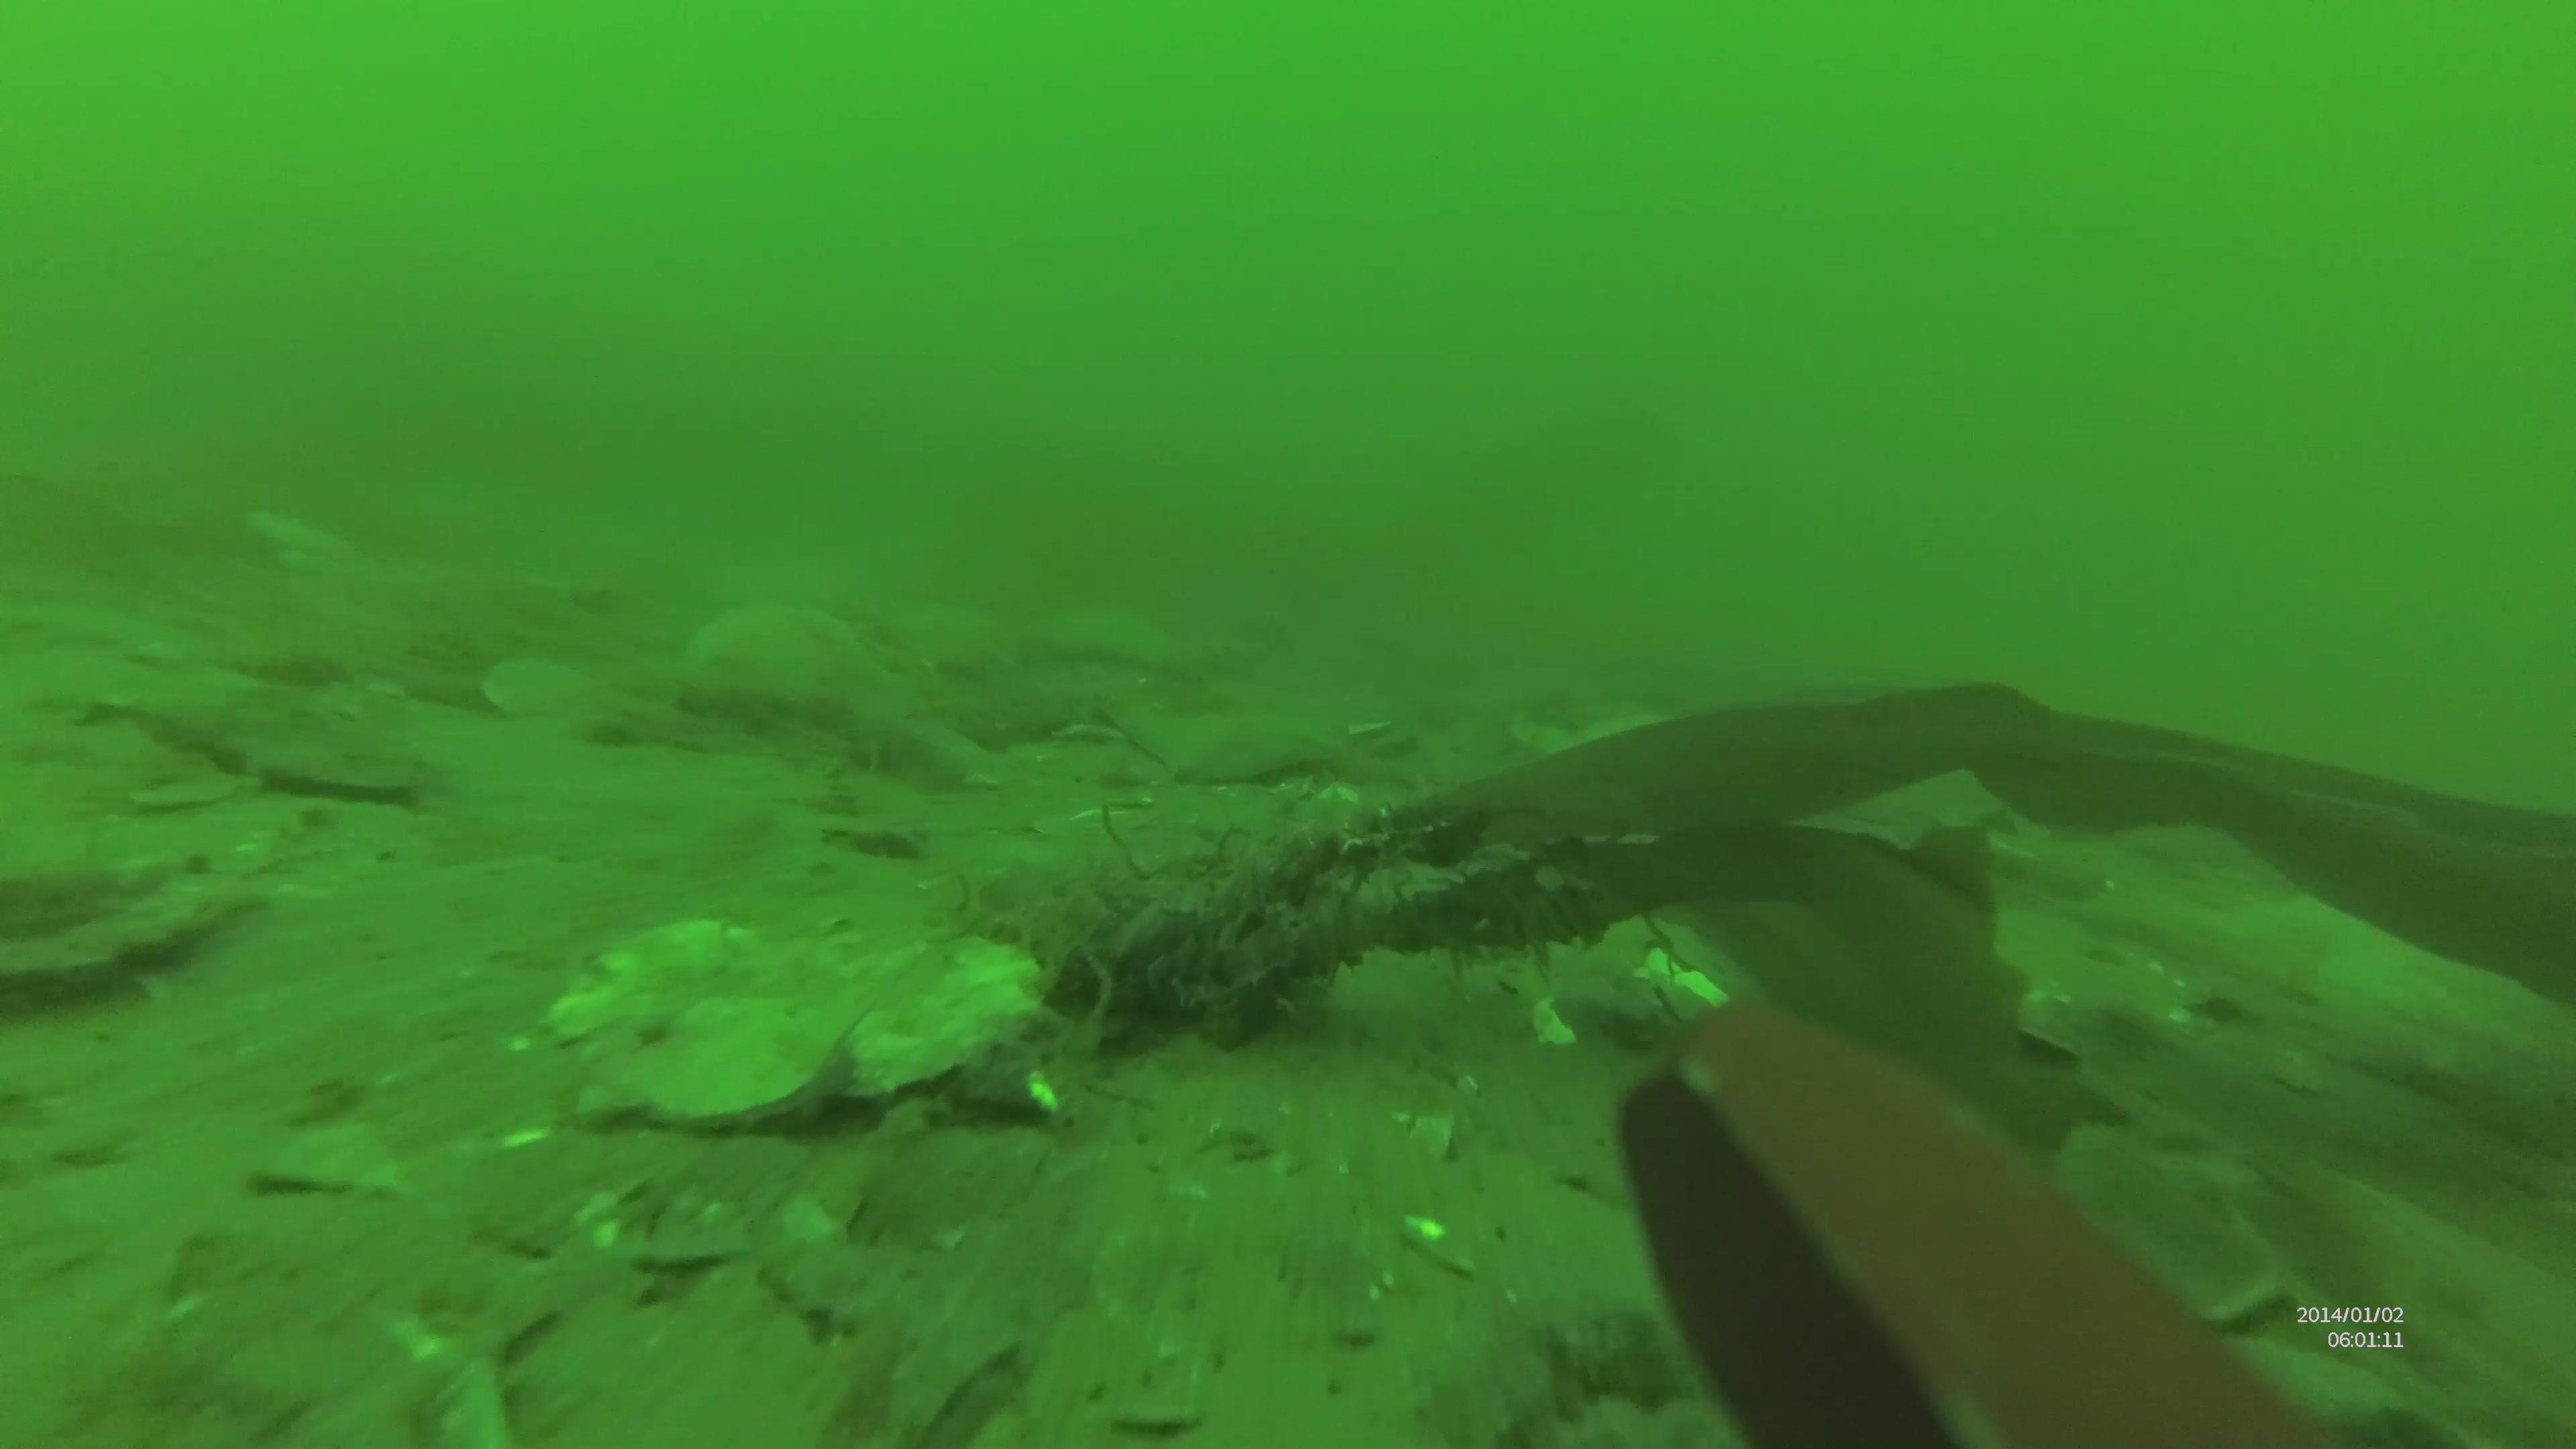scallop: (796, 939, 1063, 1104), (596, 987, 851, 1138), (550, 920, 763, 1039), (478, 656, 598, 722)
starfish: (1109, 701, 1421, 796), (674, 598, 893, 711)
